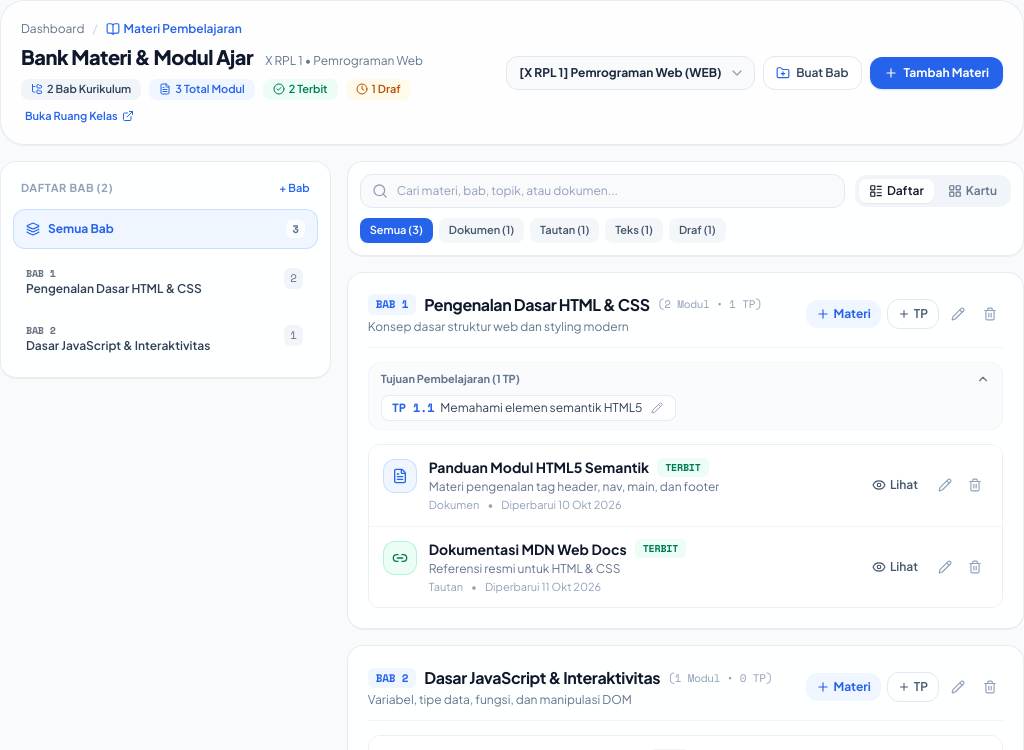
Test: MateriHubView (Chapter-Centric Workspace) › filters materials by real-time search query
Type "MDN" into the field with placeholder "Cari materi, bab, topik, atau dokumen..." at (602, 191), box x1=360 y1=174 x2=845 y2=208
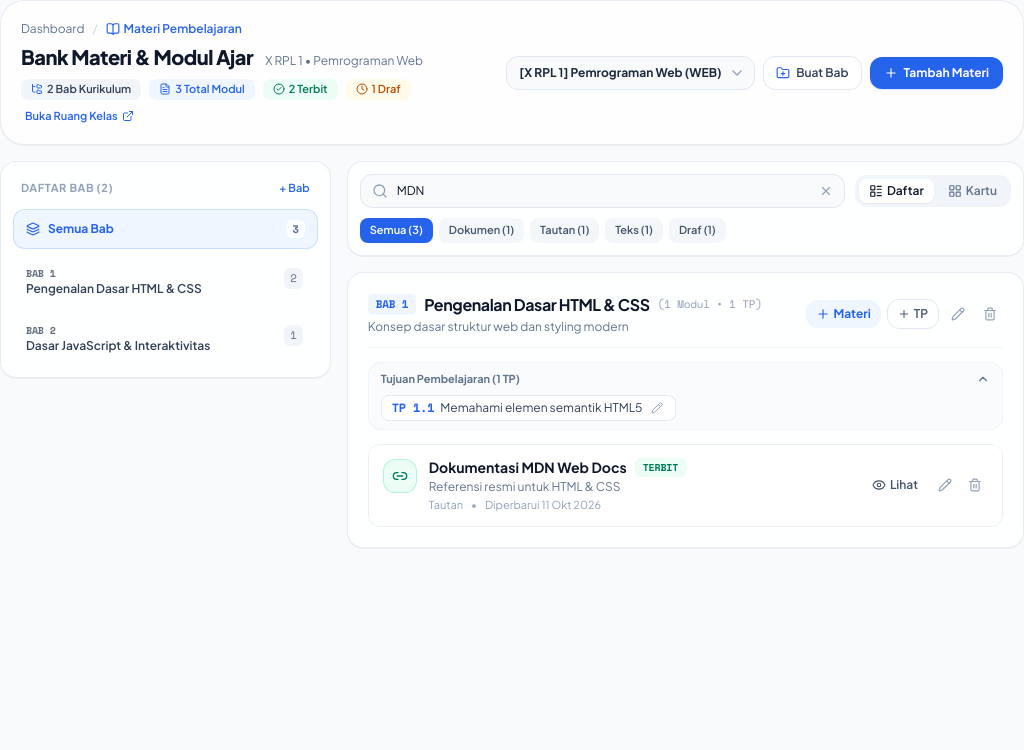
Expected: the heading "Dokumentasi MDN Web Docs" is shown, x1=429 y1=457 x2=627 y2=477
Result: the heading "Panduan Modul HTML5 Semantik" is gone
